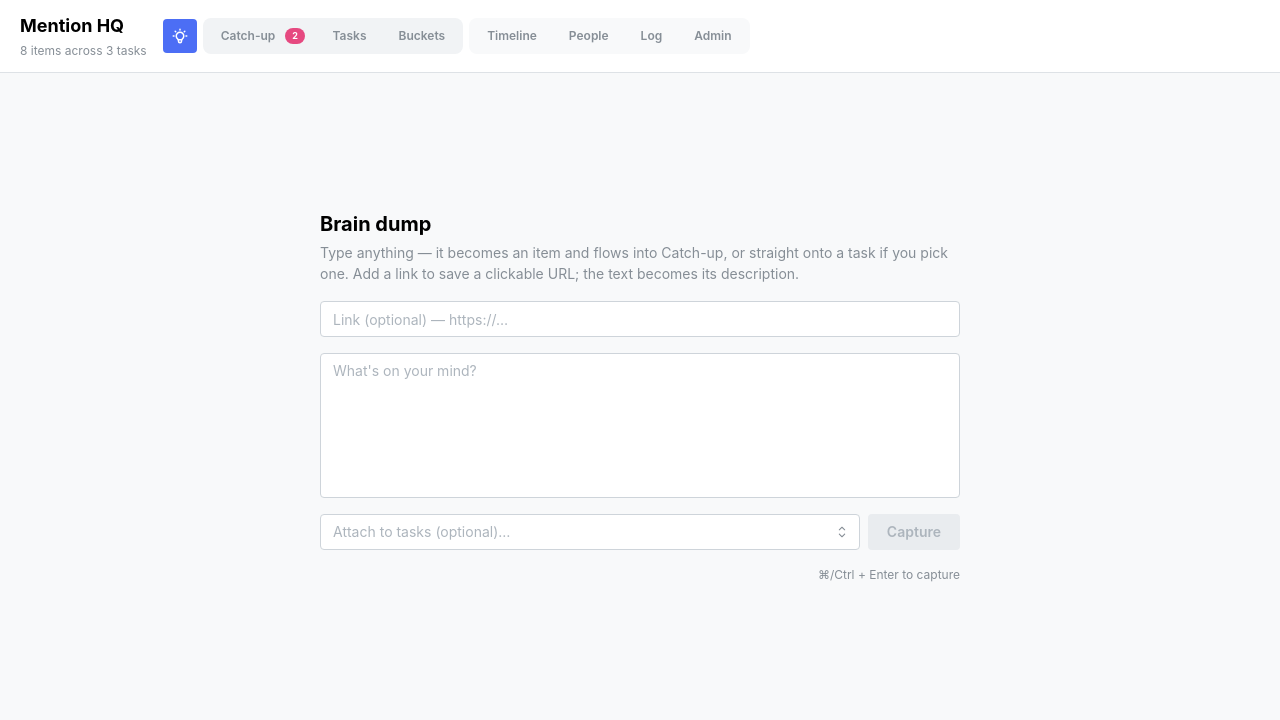
Test: BrainDumpView › can capture a link with no description
The image size is (1280, 720).
Type "https://example.com/x" into the field named "Link URL". click: (640, 319)
box: [320,301,960,337]
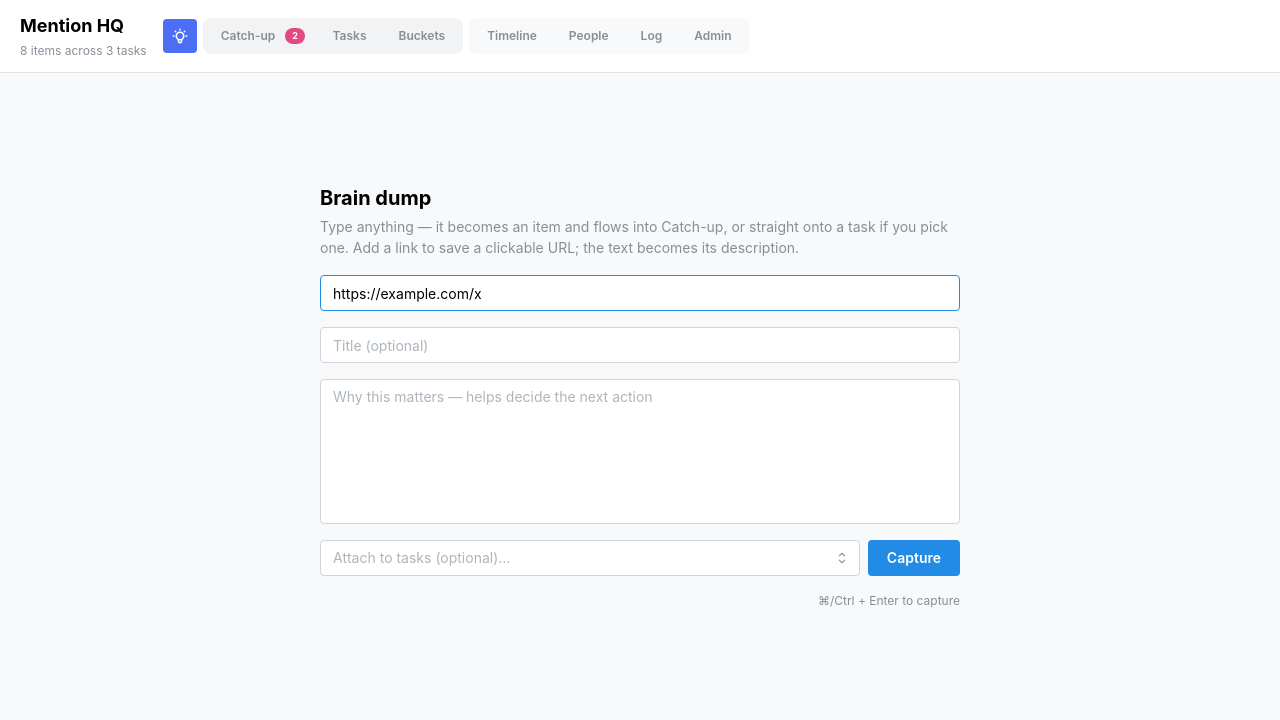
Check: the button "Capture" is enabled, box [868,540,960,576]
